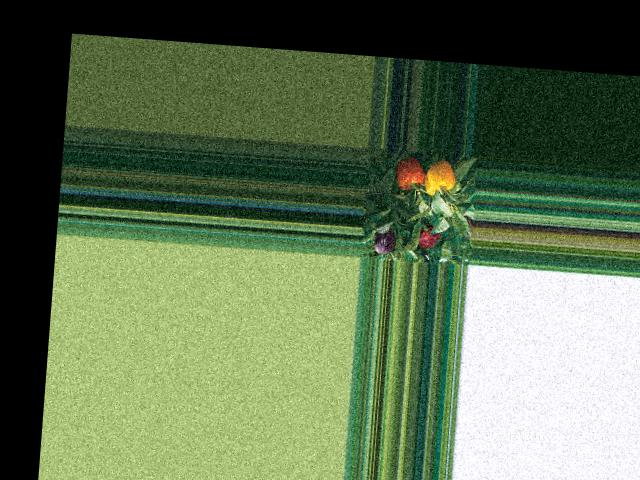bell_pepper: (416, 159, 457, 198)
